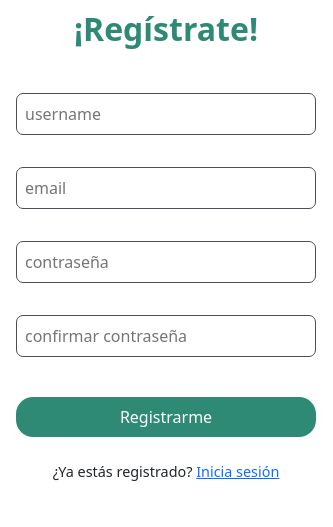
Test: NewUser Component Test › shows error for invalid email test
Type "usuario1" into the field with placeholder "username" at (166, 114), box [16,93,316,135]
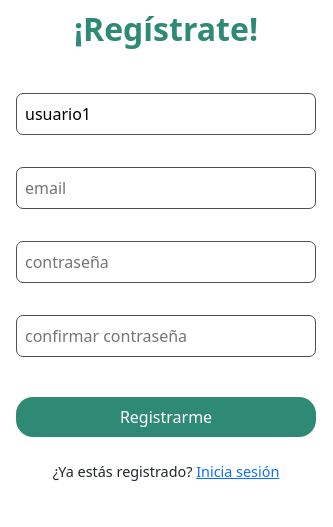
Type "noemail.com" into the field with placeholder "email" at (166, 188), box [16,167,316,209]
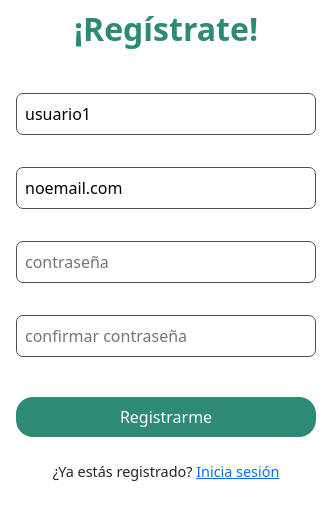
Type "12345" into the password field with placeholder "contraseña" at (166, 262), box [16,241,316,283]
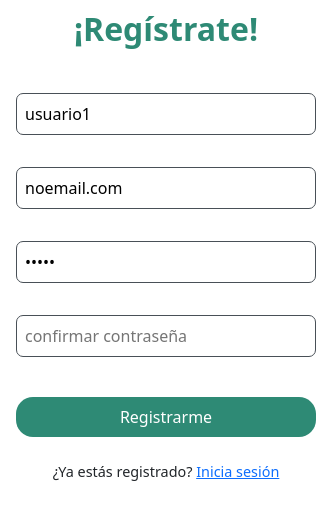
Type "12345" into the password field with placeholder "confirmar contraseña" at (166, 336), box [16,315,316,357]
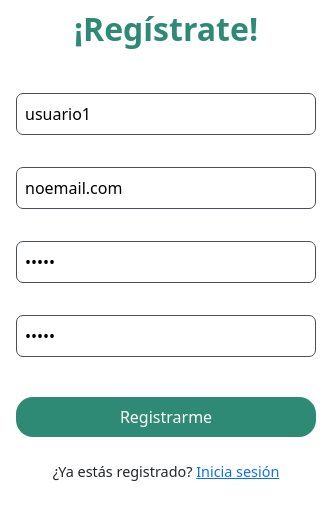
Click the button "Registrarme" at (166, 417), box [16,397,316,437]
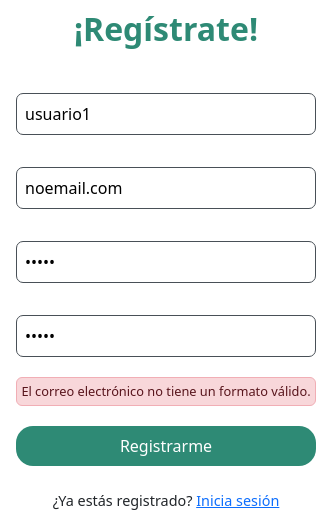
Result: the text "El correo electrónico no tiene un formato válido." is shown at [16,377,316,406]
